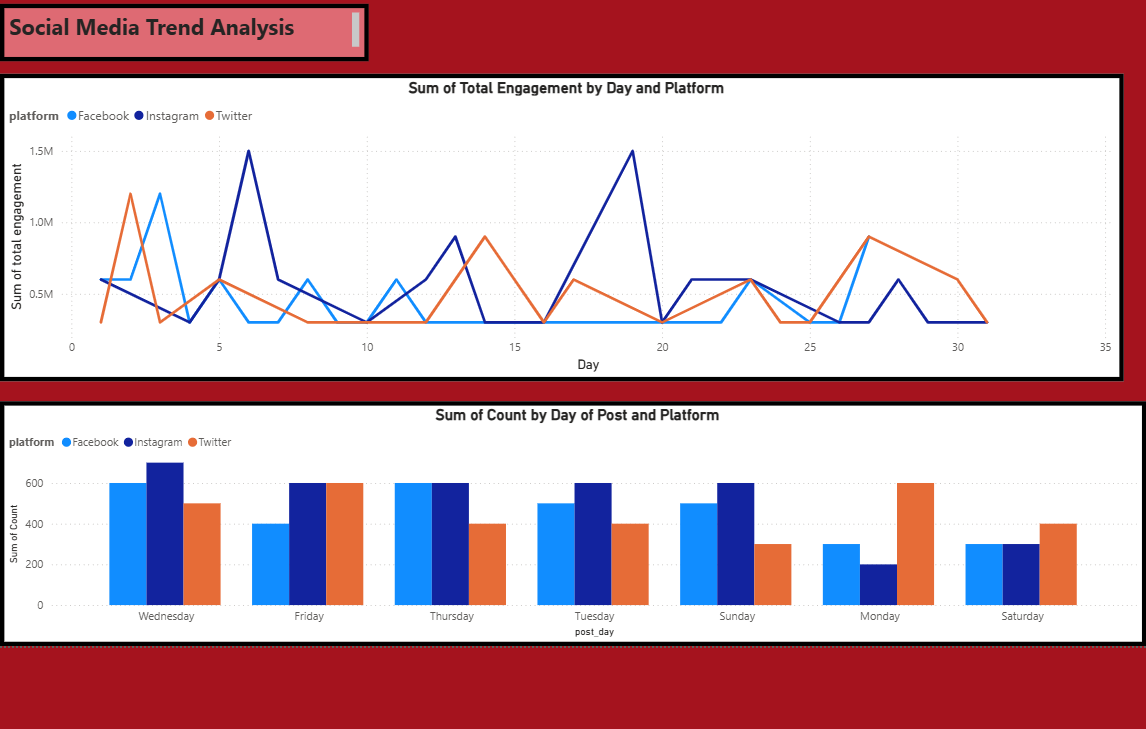

Layout of this report page (visuals, bound fields, positions):
{"tool":"powerbi","page":{"name":"Trend Analysis","canvas":[1280,720],"ordinal":0},"visuals":[{"type":"lineChart","title":"Sum of Total Engagement by Day and Platform","fields":{"Category":["social_media_engagement1.post_time.Variation.Date Hierarchy.Month","social_media_engagement1.post_time.Variation.Date Hierarchy.Day"],"Y":["Sum(social_media_engagement1.total engagement)"],"Series":["social_media_engagement1.platform"]},"box":[11,91.9,1233.6,337.6],"z":0},{"type":"clusteredColumnChart","title":"Sum of Count by Day of Post and Platform","fields":{"Category":["social_media_engagement1.post_day"],"Series":["social_media_engagement1.platform"],"Y":["Sum(social_media_engagement1.Count)"]},"box":[11,451.5,1258.3,269],"z":1000},{"type":"textbox","box":[11,15.1,404.8,63.1],"z":2000}]}

Visuals, with their boxes on the page's 1280x720 design canvas (x1, y1, x2, y2). These are canvas units, not pixel positions in the 1146x729 screenshot, which may show the page scaled, cropped or inside an application window:
"Sum of Total Engagement by Day and Platform" lineChart: <box>11,92,1245,430</box>
"Sum of Count by Day of Post and Platform" clusteredColumnChart: <box>11,452,1269,720</box>
textbox: <box>11,15,416,78</box>
